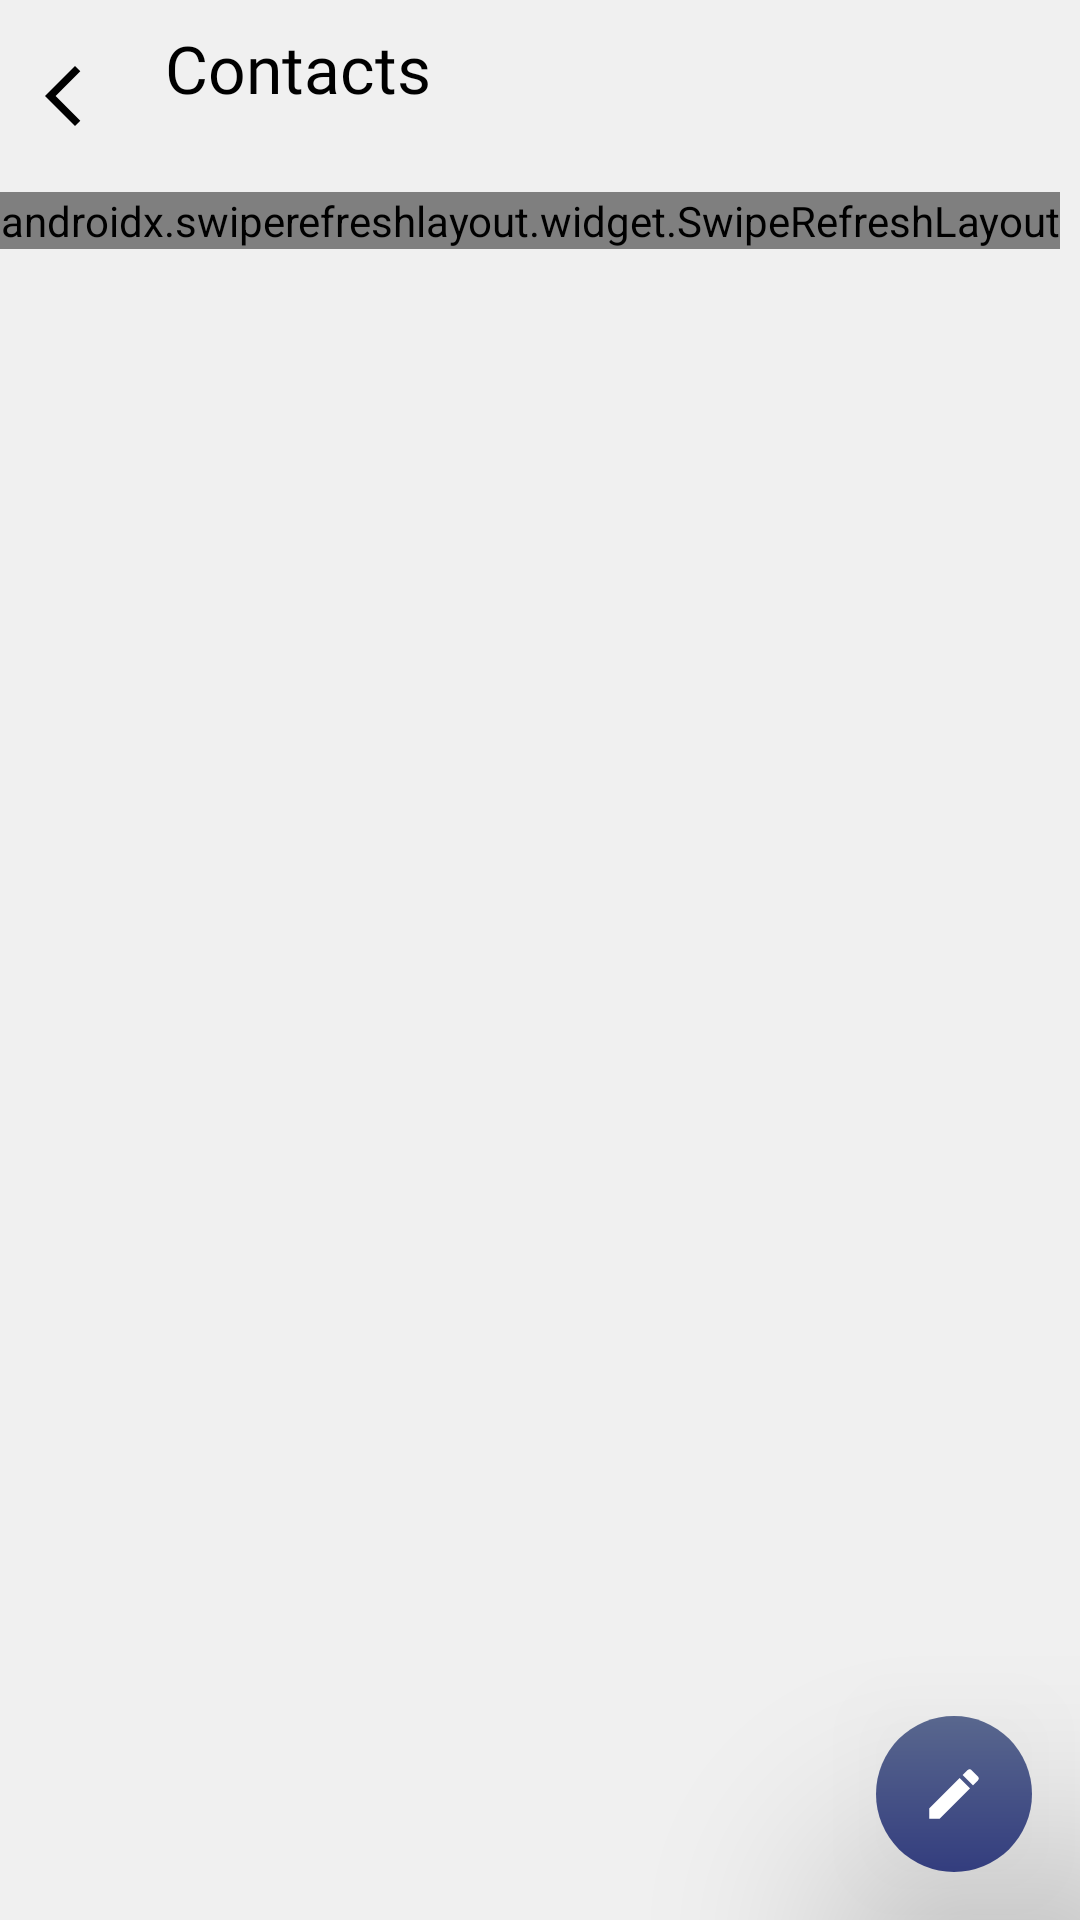

Icons on this 1080 x 1920 Android screen, each with the point to tap as [x,y]:
arrow back: [62,96]
edit: [954,1794]
